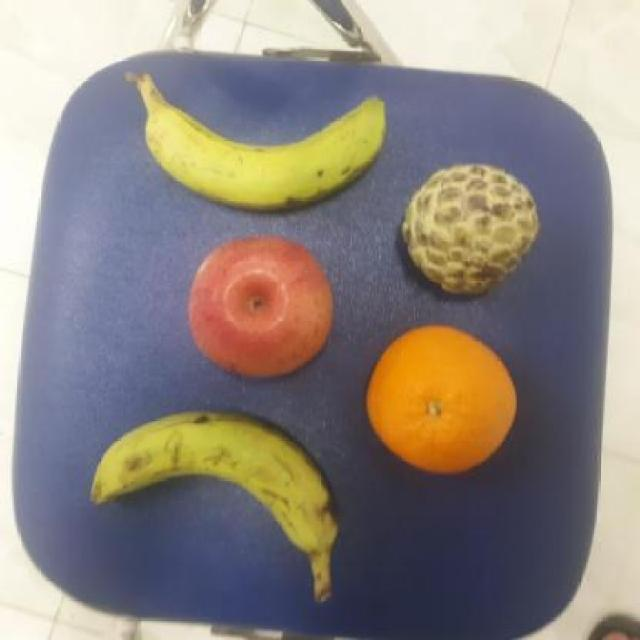apple: (186, 232, 336, 380)
banana: (88, 408, 343, 555), (141, 98, 388, 218)
oren: (365, 320, 517, 478)
sugar apple: (398, 161, 542, 296)
